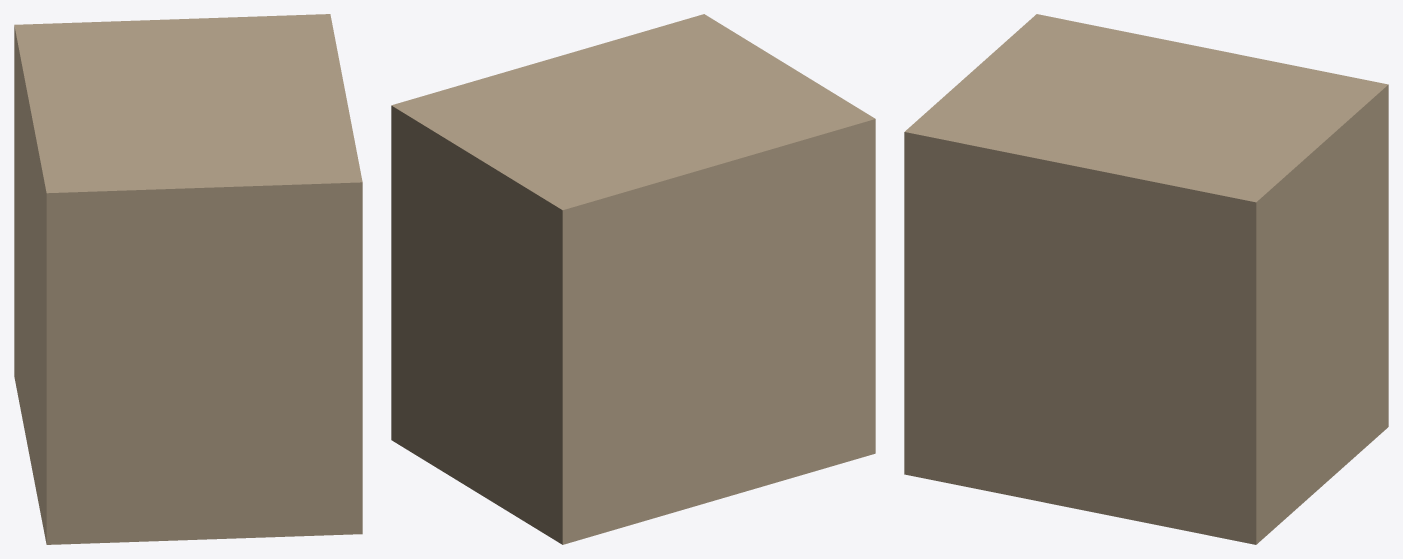
The model's file is bld_101353776.dae.
3 views of the same model, side by side, from view 1: azimuth 30°, elevation 25°; view 2: azimuth 150°, elevation 25°; view 3: azimuth 270°, elevation 25° (orthographic). The views are drawn at different scales.
Visible parts, largest first — view 1: bld_101353776; view 2: bld_101353776; view 3: bld_101353776.
Part boxes in pixels (x1,y1,x2,y2): bld_101353776: (14, 14, 362, 544); bld_101353776: (391, 14, 875, 544); bld_101353776: (904, 14, 1388, 544).
Bounding box in the file's own units: 9.44 × 10.25 × 8.
